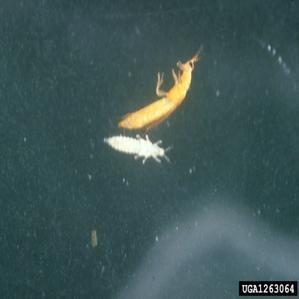melon thrips: (101, 44, 209, 138), (99, 131, 172, 184)
